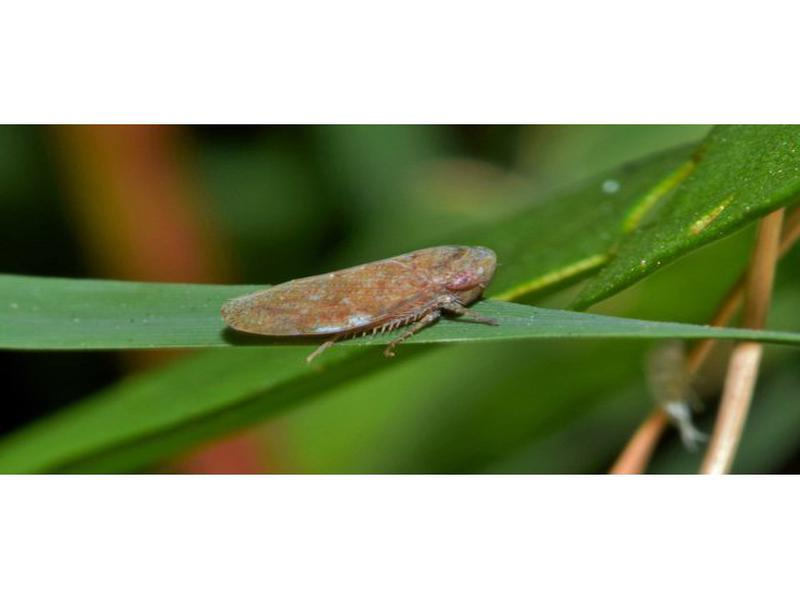Brown_plant_leafhopper: (210, 230, 543, 381)
